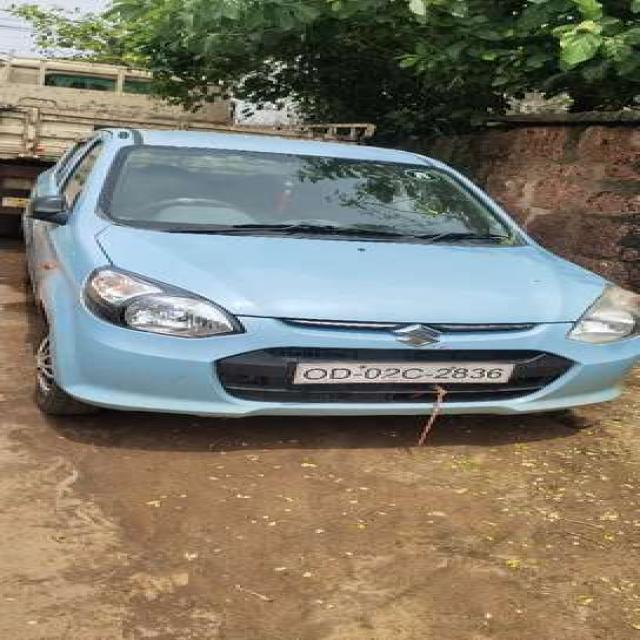Plate: (290, 358, 514, 382)
